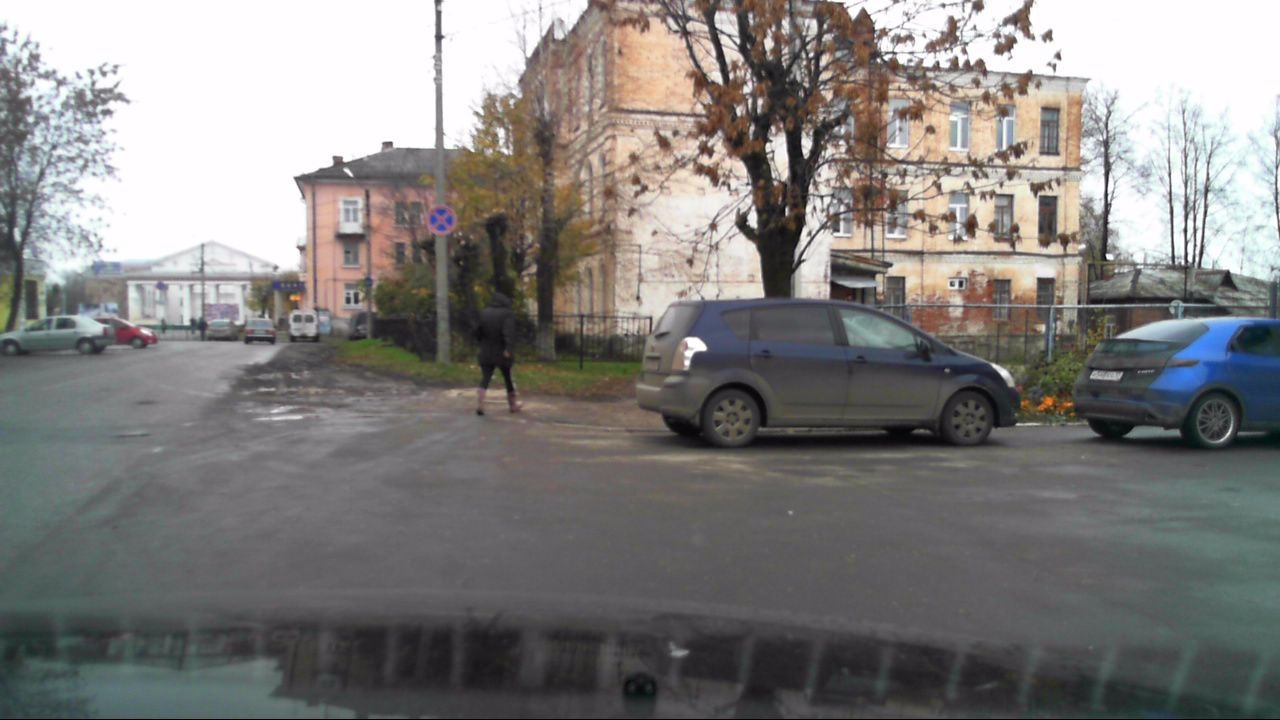No Parking: (424, 203, 457, 235)
